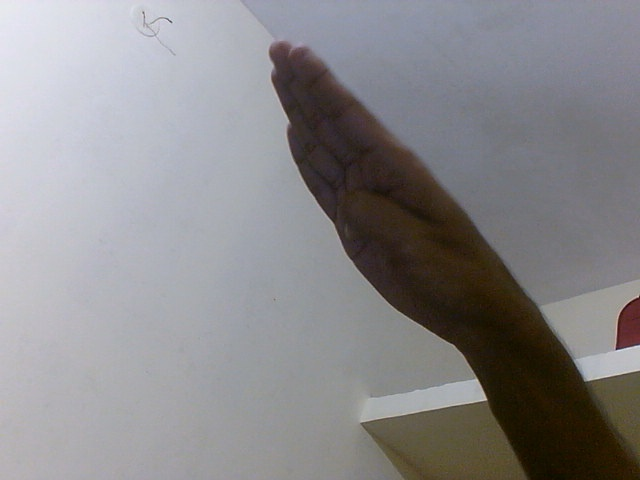hand: (261, 39, 513, 357)
